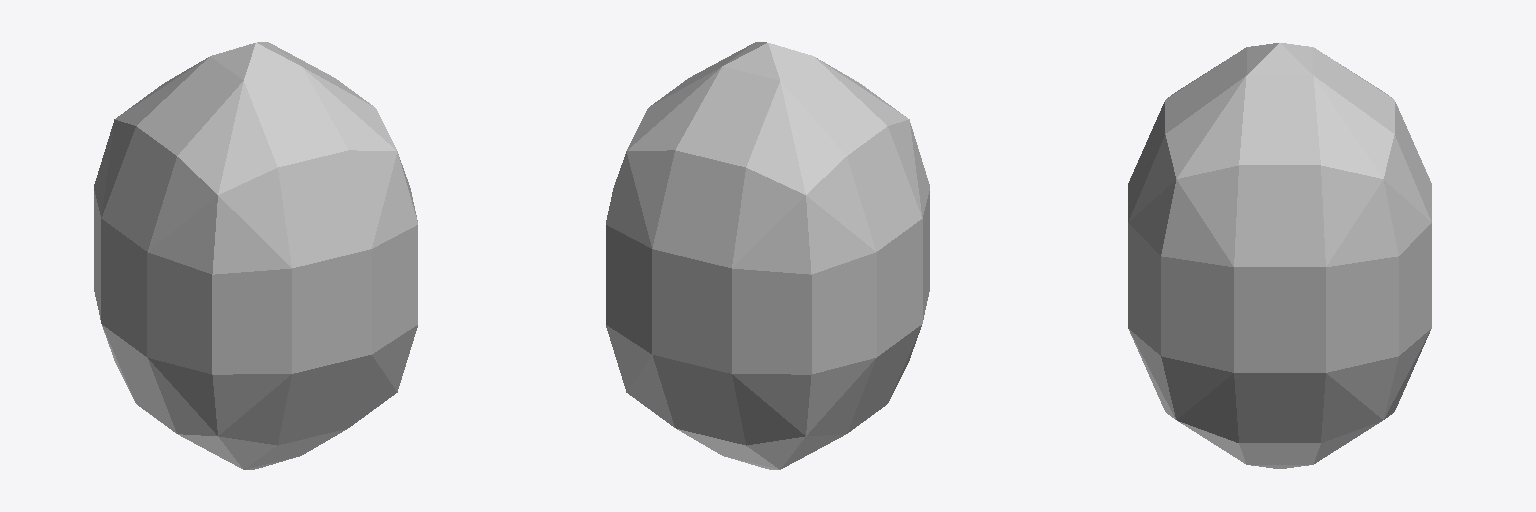
File: teeth_smoothed_40.obj
The picture shows the model from 3 angles: view 1: azimuth 30°, elevation 25°; view 2: azimuth 150°, elevation 25°; view 3: azimuth 270°, elevation 25°; orthographic projection.
Size of the model in its own units: 0.7401 by 1.15 by 0.7401.